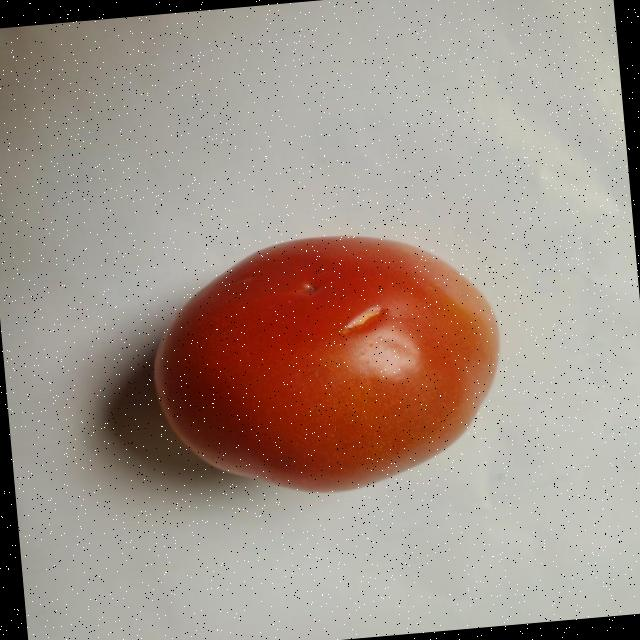Tomato: (143, 218, 514, 508)
